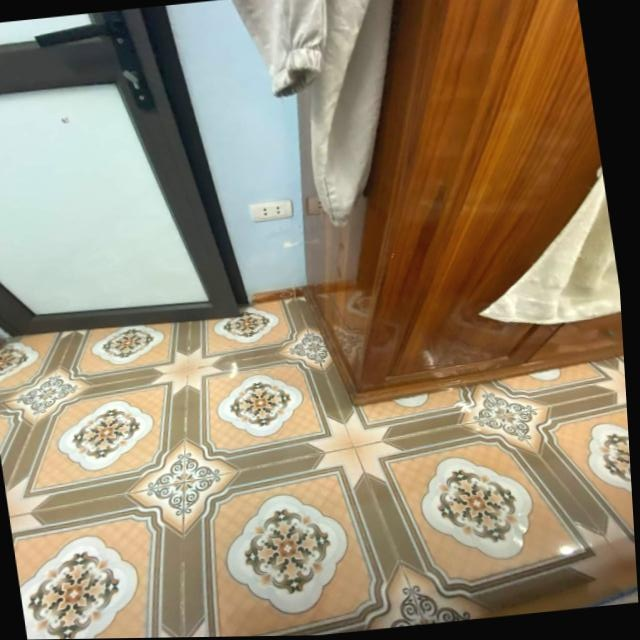outlet: (248, 199, 295, 224)
